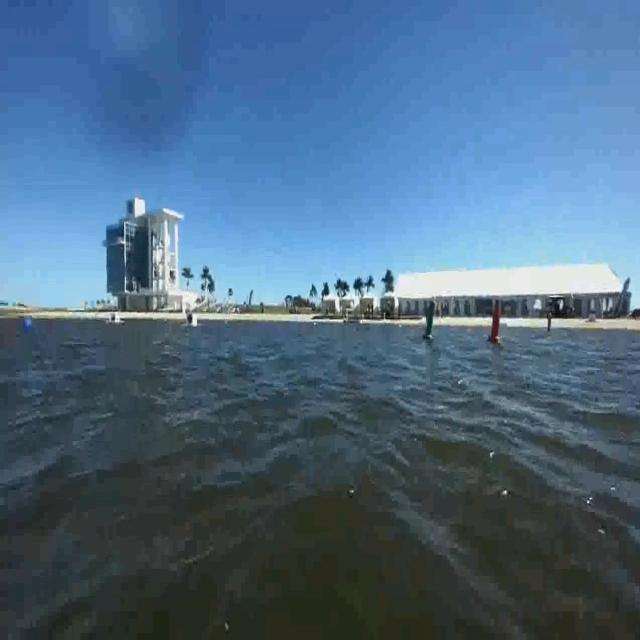blue-buoy: (21, 306, 39, 338)
green-column-buoy: (421, 284, 438, 350)
red-column-buoy: (486, 288, 509, 357)
